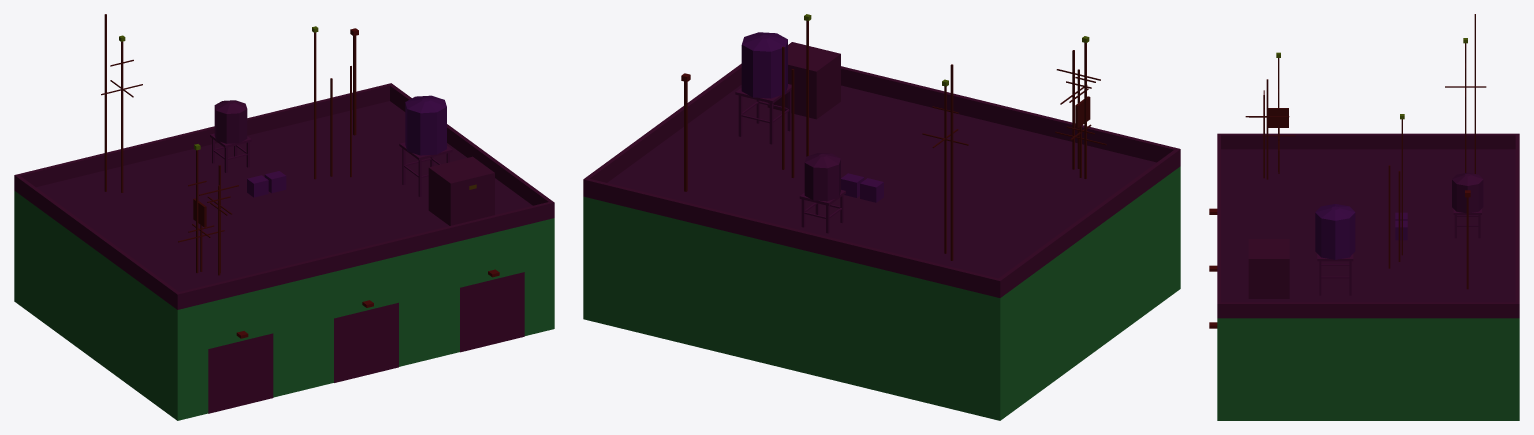
The model's file is midrise_d.glb.
3 views of the same model, side by side, from view 1: azimuth 30°, elevation 25°; view 2: azimuth 150°, elevation 25°; view 3: azimuth 270°, elevation 25° (orthographic). The views are drawn at different scales.
Parts seen in each view (by area): view 1: midrise_d; view 2: midrise_d; view 3: midrise_d.
Boxes of the visible parts, x1,y1,x2,y2 form: midrise_d: [14, 14, 554, 420]; midrise_d: [583, 14, 1180, 420]; midrise_d: [1209, 14, 1519, 420].
Size of the model in its own units: 25.6 by 18.69 by 19.7.
